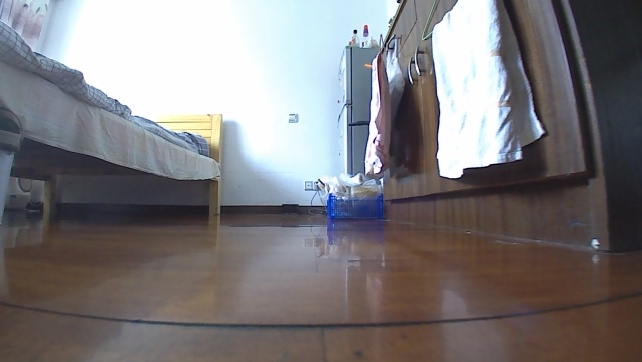bed1: (0, 13, 224, 220)
refrigerator1: (335, 41, 382, 172)
wire: (306, 190, 325, 217)
